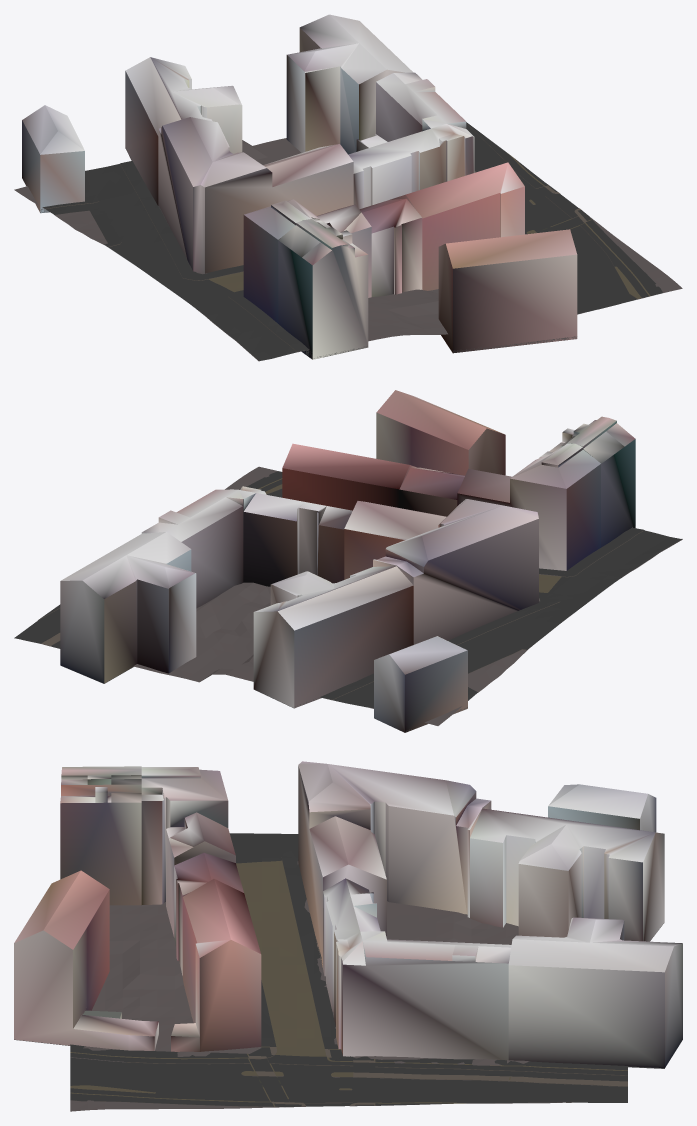
3 renders of one model, top to bottom at view 1: azimuth 30°, elevation 25°; view 2: azimuth 150°, elevation 25°; view 3: azimuth 270°, elevation 25°, orthographic. The views are drawn at different scales.
Parts seen in each view (by area): view 1: c_p03_m15; view 2: c_p03_m15; view 3: c_p03_m15.
Boxes of the visible parts, box(x1,y1,x2,y2) form: c_p03_m15: box(14, 14, 682, 361); c_p03_m15: box(14, 390, 682, 732); c_p03_m15: box(14, 761, 682, 1111).
Size of the model in its own units: 129 by 37.99 by 154.
